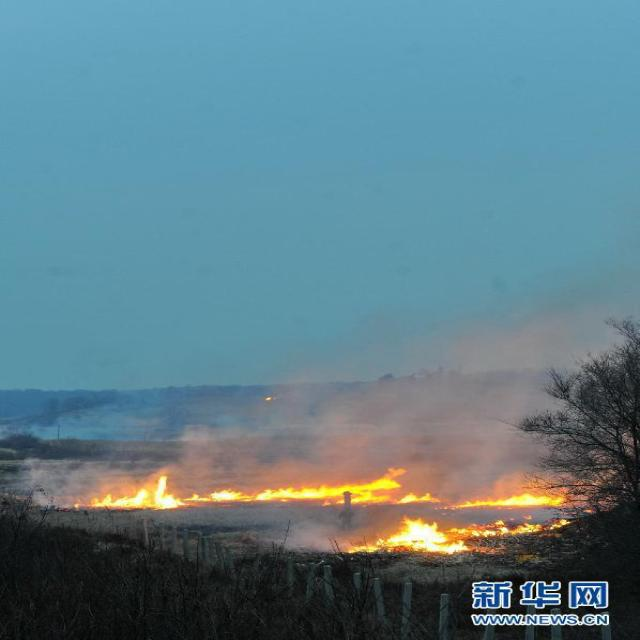fire: (53, 468, 579, 511), (306, 514, 556, 560)
